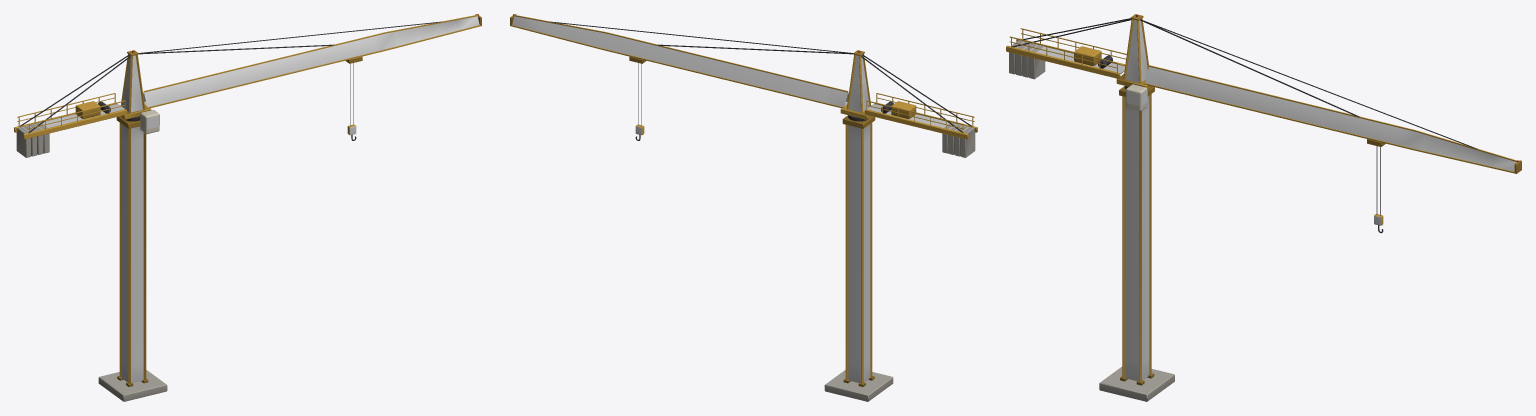
File: TowerCrane.fbx
The picture shows the model from 3 angles, left to right: view 1: azimuth 30°, elevation 25°; view 2: azimuth 150°, elevation 25°; view 3: azimuth 330°, elevation 25°; orthographic projection. The views are drawn at different scales.
Visible parts, largest first — view 1: TowerCrane; view 2: TowerCrane; view 3: TowerCrane.
Boxes of the visible parts, x1,y1,x2,y2 form: TowerCrane: (14,14,481,401); TowerCrane: (510,14,977,401); TowerCrane: (1006,14,1521,401).
Size of the model in its own units: 54.65 by 38.18 by 5.2.
